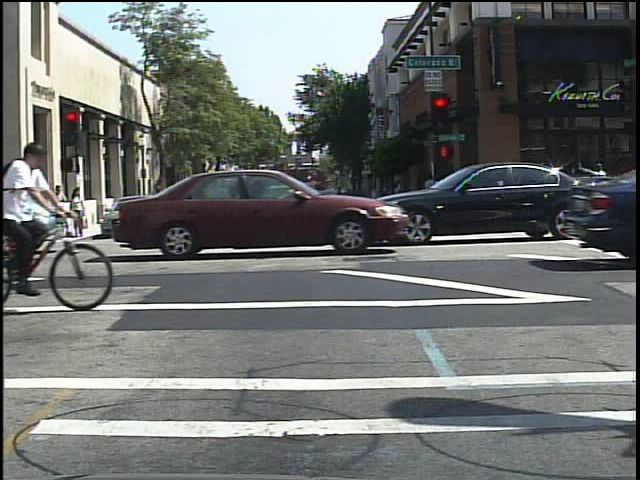person: (591, 158, 617, 223)
